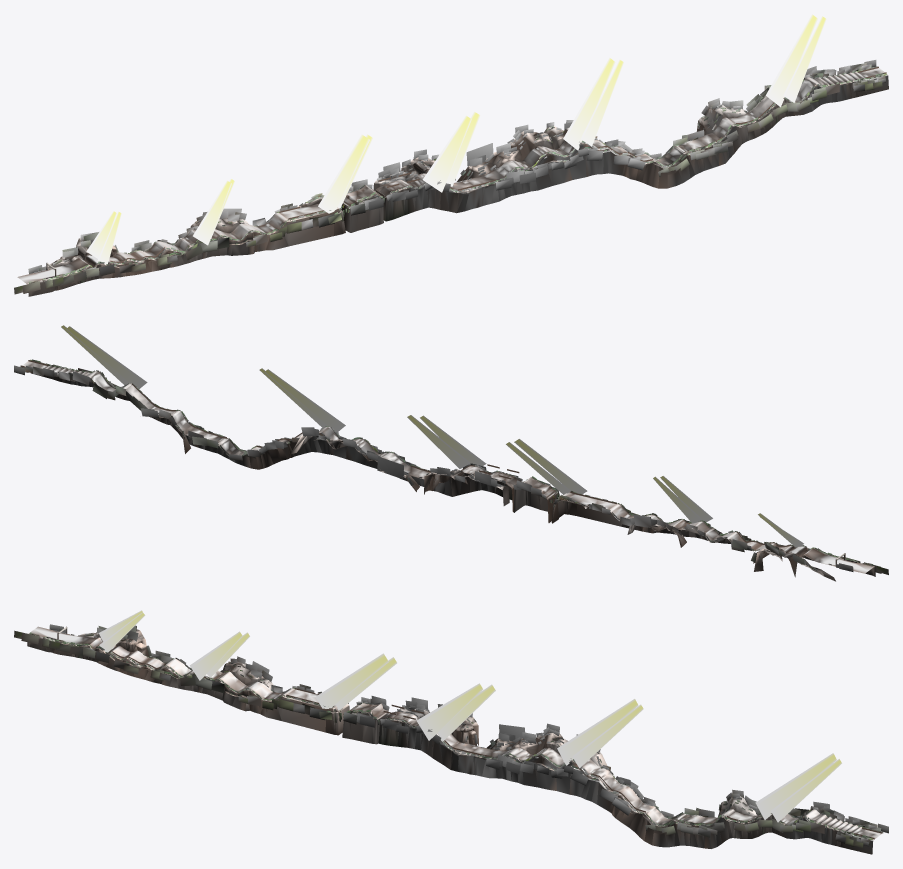
The model's file is Forest_13.fbx.
3 views of the same model, one above another, from view 1: azimuth 30°, elevation 25°; view 2: azimuth 150°, elevation 25°; view 3: azimuth 330°, elevation 25° (orthographic).
Visible parts, largest first — view 1: Mountain_01, Tree_01, Light_01, Ground_01, Leak_01; view 2: Mountain_01, Tree_01, Light_01, Ground_01, Leak_01; view 3: Mountain_01, Tree_01, Light_01, Ground_01, Leak_01.
Part boxes in pixels (box(x1,y1,x2,y2)): Mountain_01: box(27, 74, 888, 296); Tree_01: box(14, 60, 886, 294); Light_01: box(86, 14, 826, 264); Ground_01: box(17, 68, 884, 283); Leak_01: box(110, 66, 886, 262); Mountain_01: box(31, 365, 875, 581); Tree_01: box(14, 359, 888, 574); Light_01: box(61, 325, 803, 547); Ground_01: box(22, 361, 873, 573); Leak_01: box(20, 360, 791, 547); Mountain_01: box(27, 629, 873, 854); Tree_01: box(14, 624, 888, 848); Light_01: box(99, 610, 841, 822); Ground_01: box(29, 626, 882, 839); Leak_01: box(111, 651, 882, 839).
Size of the model in its own units: 70989 by 9700 by 4060.
